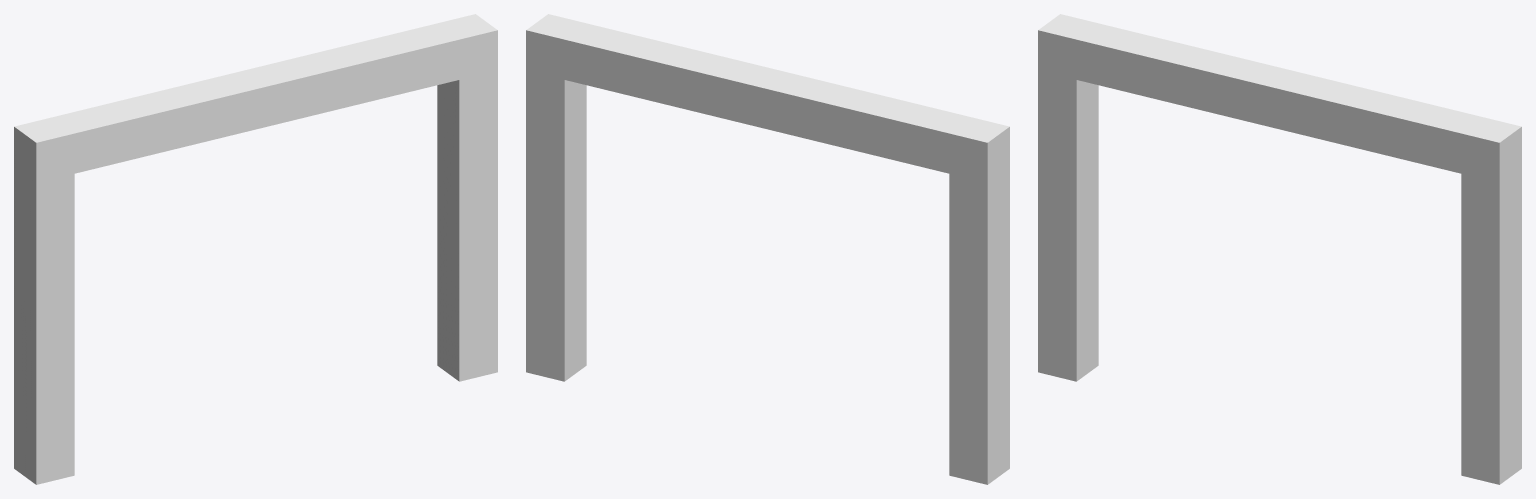
Rendered from ark_white.obj.
3 views of the same model, side by side, from view 1: azimuth 30°, elevation 25°; view 2: azimuth 150°, elevation 25°; view 3: azimuth 330°, elevation 25° (orthographic).
Size of the model in its own units: 12 by 8.5 by 1.
1 material, 1 textured.
